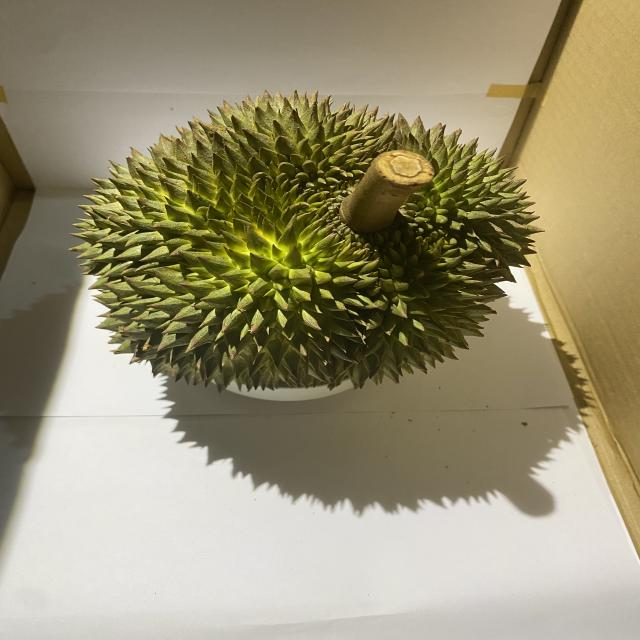immature: (72, 87, 546, 396)
